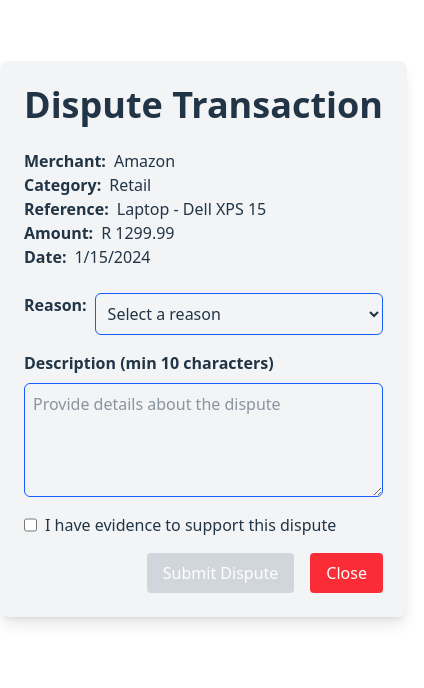
Test case: DisputeForm › shows file upload when evidence checkbox is checked
The width and height of the screenshot is (424, 688).
Expected: the field labelled "Upload Evidence" is not shown
Click the checkbox labelled "I have evidence to support this dispute".
click(30, 525)  # box [24,513,37,537]
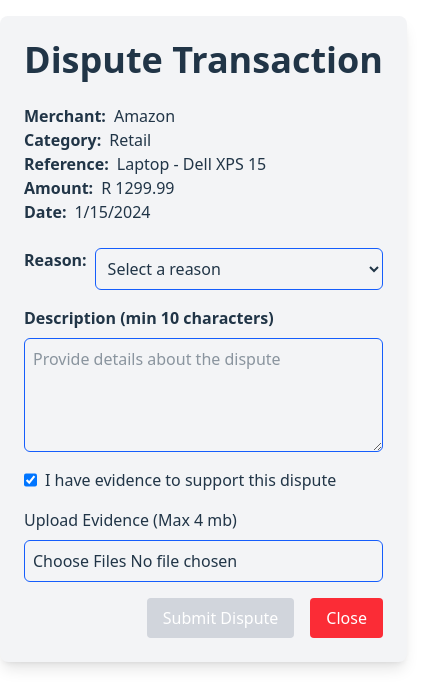
Expected: the file field labelled "Upload Evidence (Max 4 mb)" is shown, [24,540,383,582]
